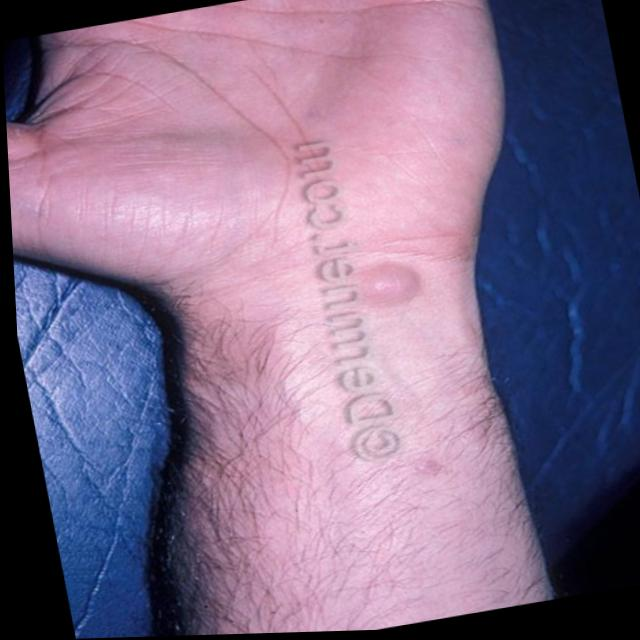Eczema: (348, 252, 425, 328)
